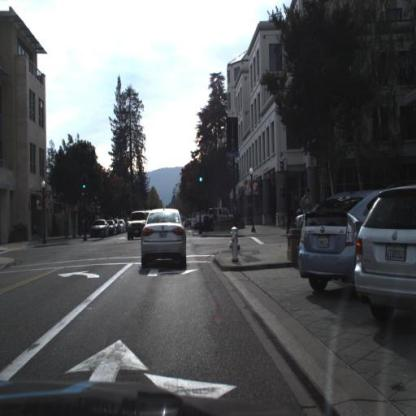car: (355, 185, 416, 331), (298, 185, 365, 301), (138, 199, 191, 277), (125, 209, 148, 245), (90, 216, 112, 242), (109, 221, 117, 238)
pedestrian: (298, 182, 313, 218), (299, 189, 316, 215)
trafficLight-Green: (197, 166, 206, 190), (83, 178, 88, 195), (83, 174, 88, 190)
